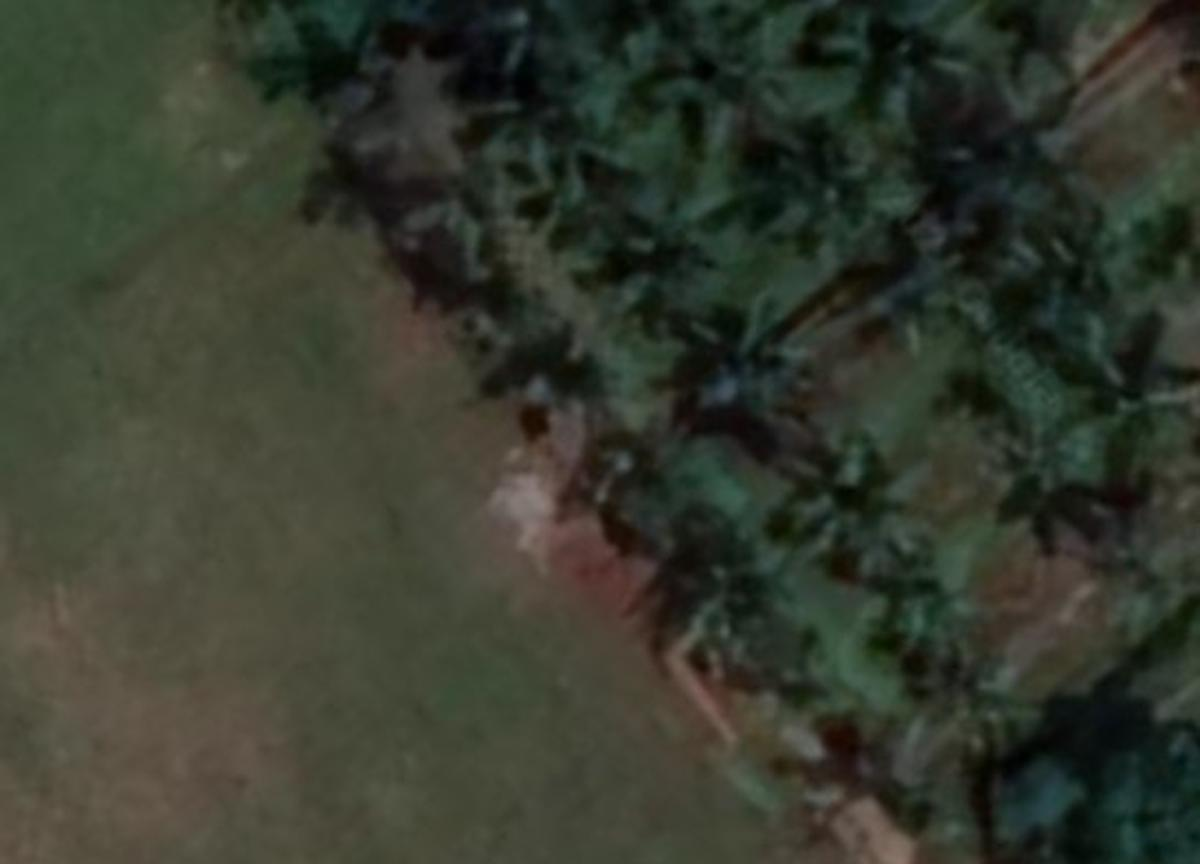coconut: (659, 298, 815, 455), (648, 8, 806, 138), (782, 446, 925, 582), (771, 120, 909, 255), (483, 87, 630, 206), (1079, 305, 1195, 444)
